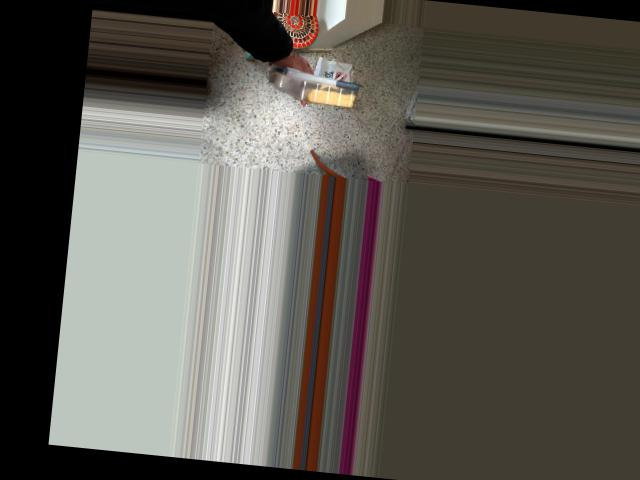cheese: (282, 19, 366, 133)
